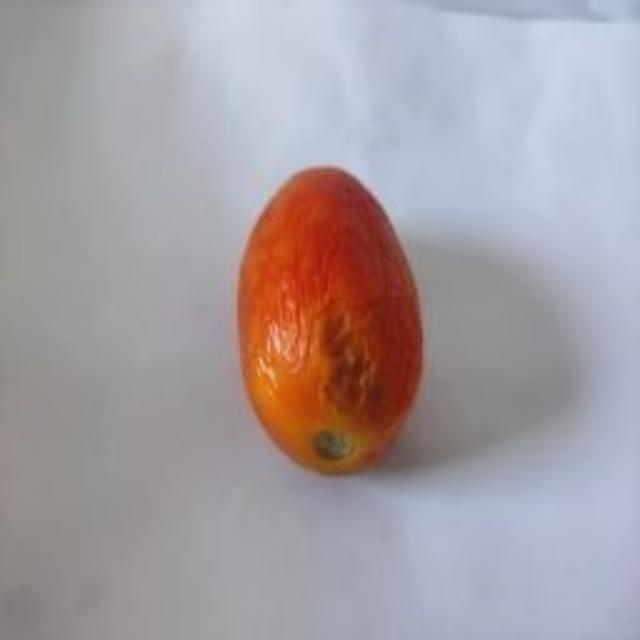defect: (233, 162, 425, 481)
